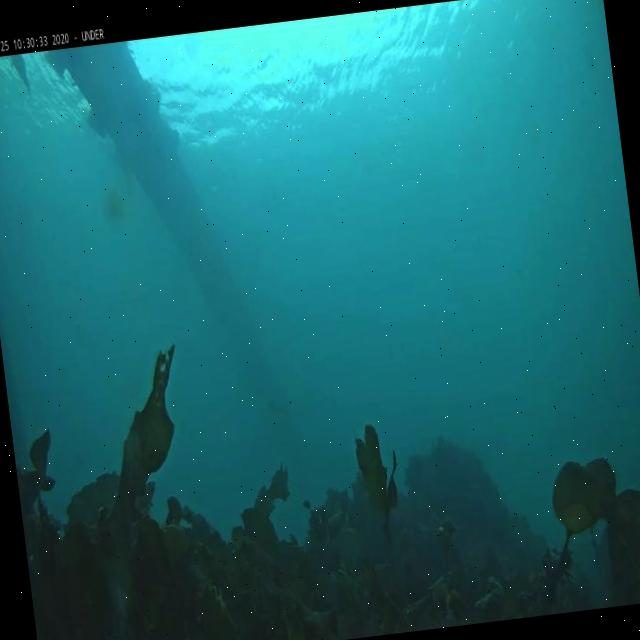fish: (6, 51, 34, 94)
